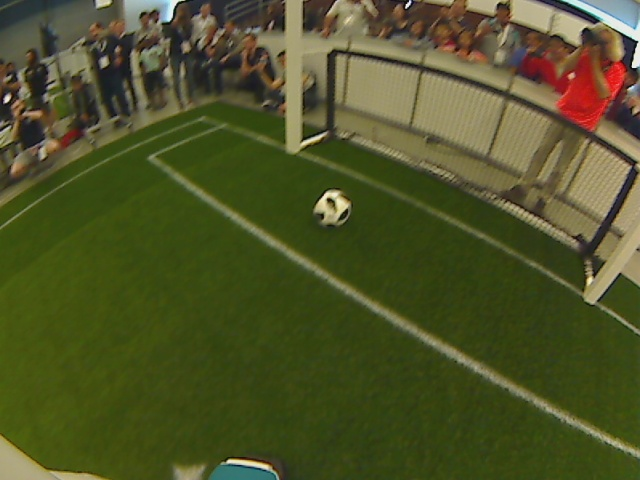ball: (311, 188, 354, 228)
